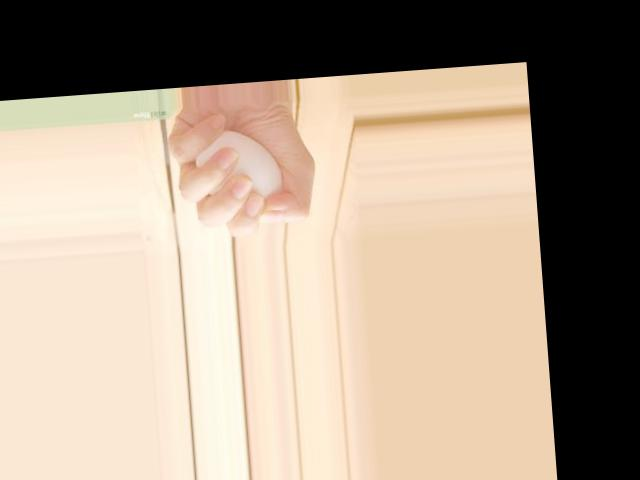egg: (192, 127, 283, 210)
